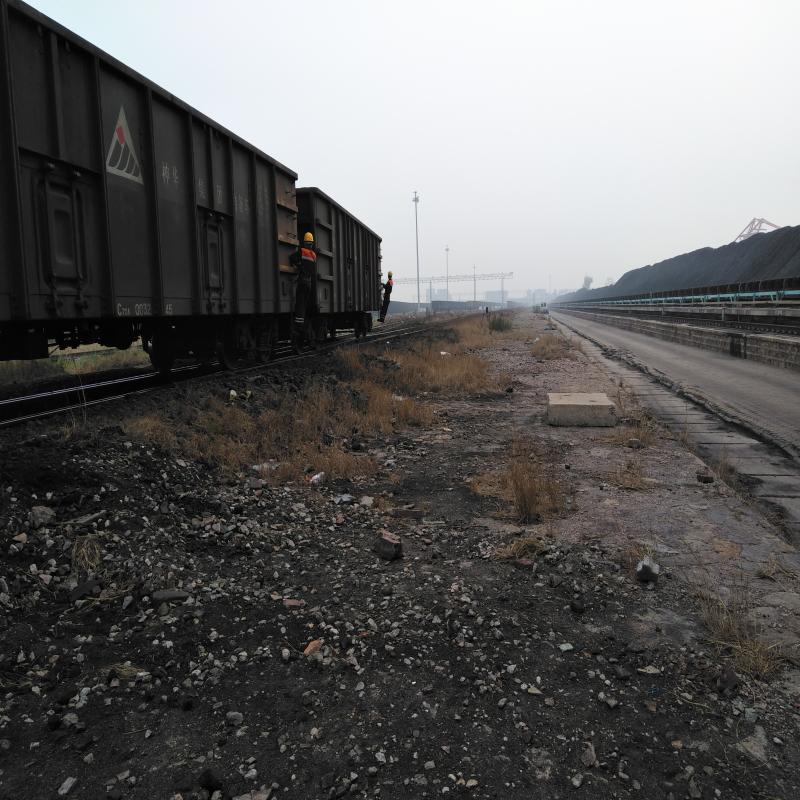train: (118, 64, 278, 375)
